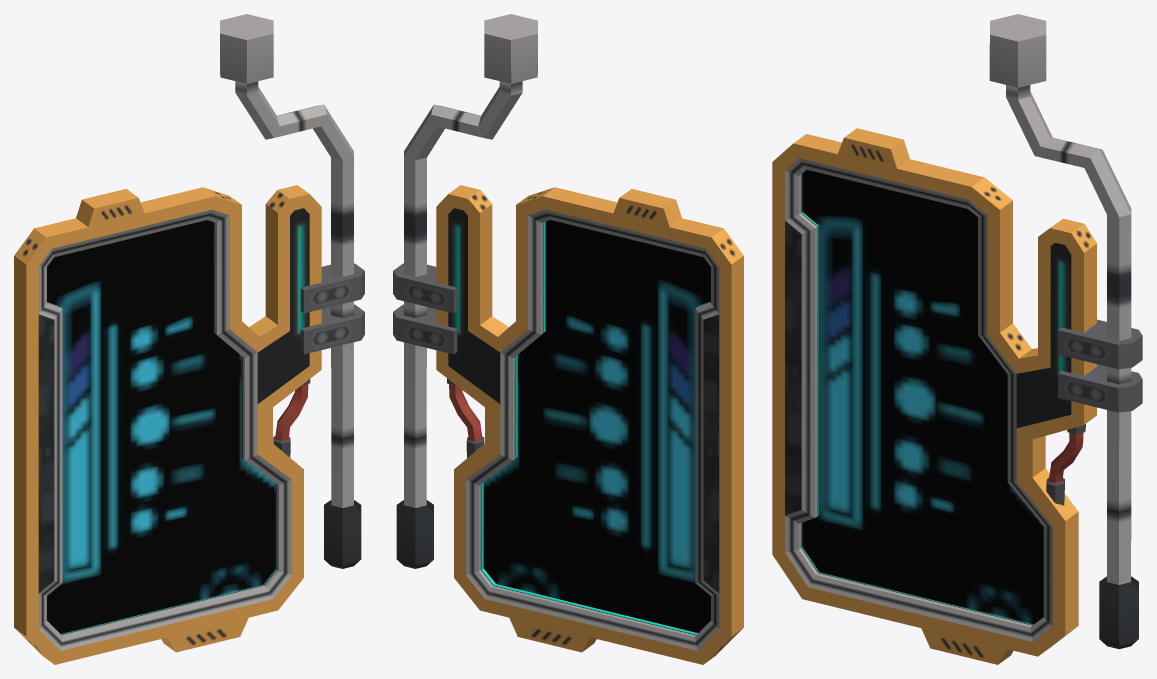
Rendered from SM_Prop_Monitor_03.fbx.
3 views of the same model, side by side, from view 1: azimuth 30°, elevation 25°; view 2: azimuth 150°, elevation 25°; view 3: azimuth 330°, elevation 25° (orthographic). The views are drawn at different scales.
Parts seen in each view (by area): view 1: SM_Prop_Monitor_03; view 2: SM_Prop_Monitor_03; view 3: SM_Prop_Monitor_03.
Part boxes in pixels (x1,y1,x2,y2): SM_Prop_Monitor_03: (14, 14, 364, 664); SM_Prop_Monitor_03: (393, 14, 743, 664); SM_Prop_Monitor_03: (772, 14, 1142, 664).
Bounding box in the file's own units: 82.92 × 140 × 11.32.
